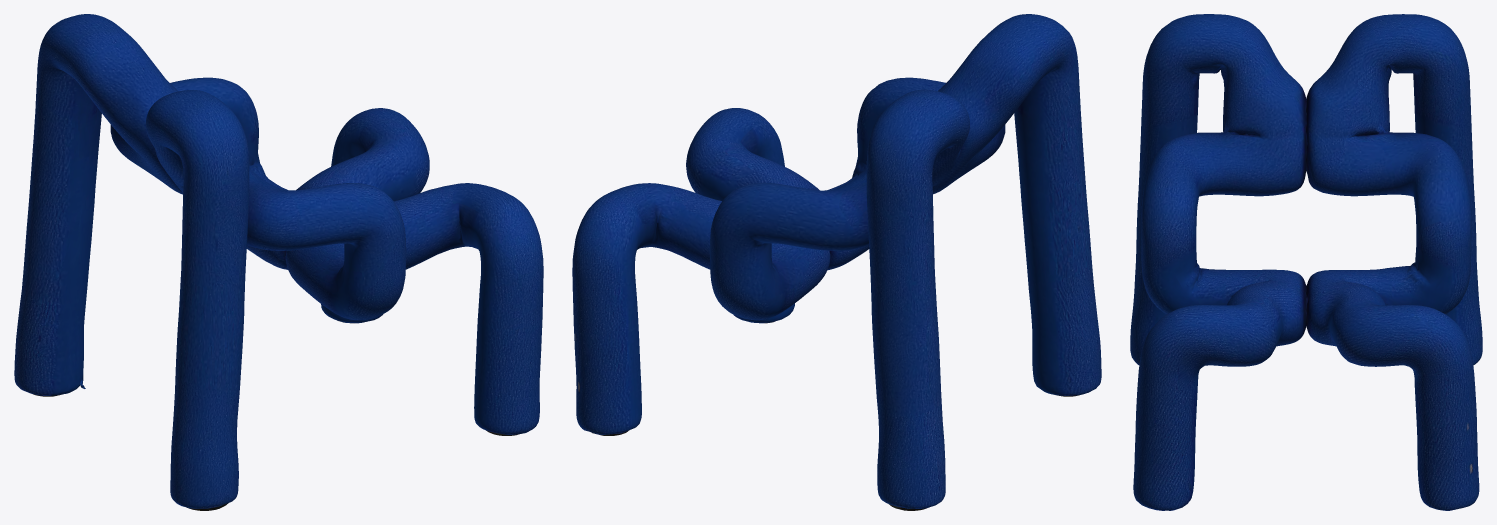
The model's file is ekstrem.glb.
The picture shows the model from 3 angles, left to right: view 1: azimuth 30°, elevation 25°; view 2: azimuth 150°, elevation 25°; view 3: azimuth 270°, elevation 25°; orthographic projection. The views are drawn at different scales.
Parts seen in each view (by area): view 1: tripo_node_b6621fb5-6f96-450b-8a97-ca9baff4cd13; view 2: tripo_node_b6621fb5-6f96-450b-8a97-ca9baff4cd13; view 3: tripo_node_b6621fb5-6f96-450b-8a97-ca9baff4cd13.
Part boxes in pixels (bbox=[...]): tripo_node_b6621fb5-6f96-450b-8a97-ca9baff4cd13: bbox=[14, 14, 543, 510]; tripo_node_b6621fb5-6f96-450b-8a97-ca9baff4cd13: bbox=[572, 14, 1101, 510]; tripo_node_b6621fb5-6f96-450b-8a97-ca9baff4cd13: bbox=[1130, 14, 1482, 510].
Size of the model in its own units: 0.8067 by 0.7899 by 0.7113.
1 material, 1 textured.
